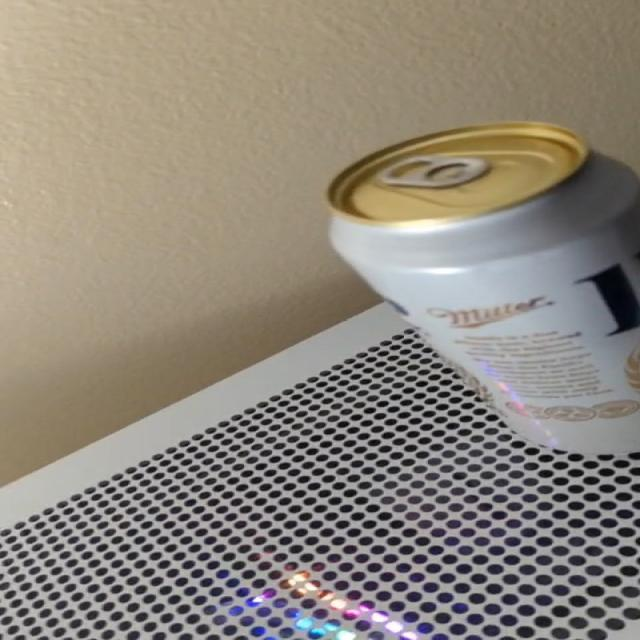can: (329, 122, 640, 454)
